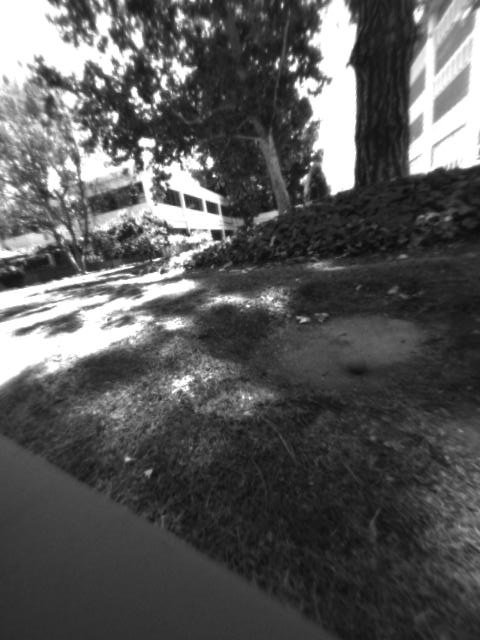dogtoy: (340, 345, 375, 379)
